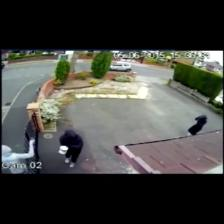person: (2, 138, 34, 174), (60, 130, 83, 167), (188, 115, 207, 135)
